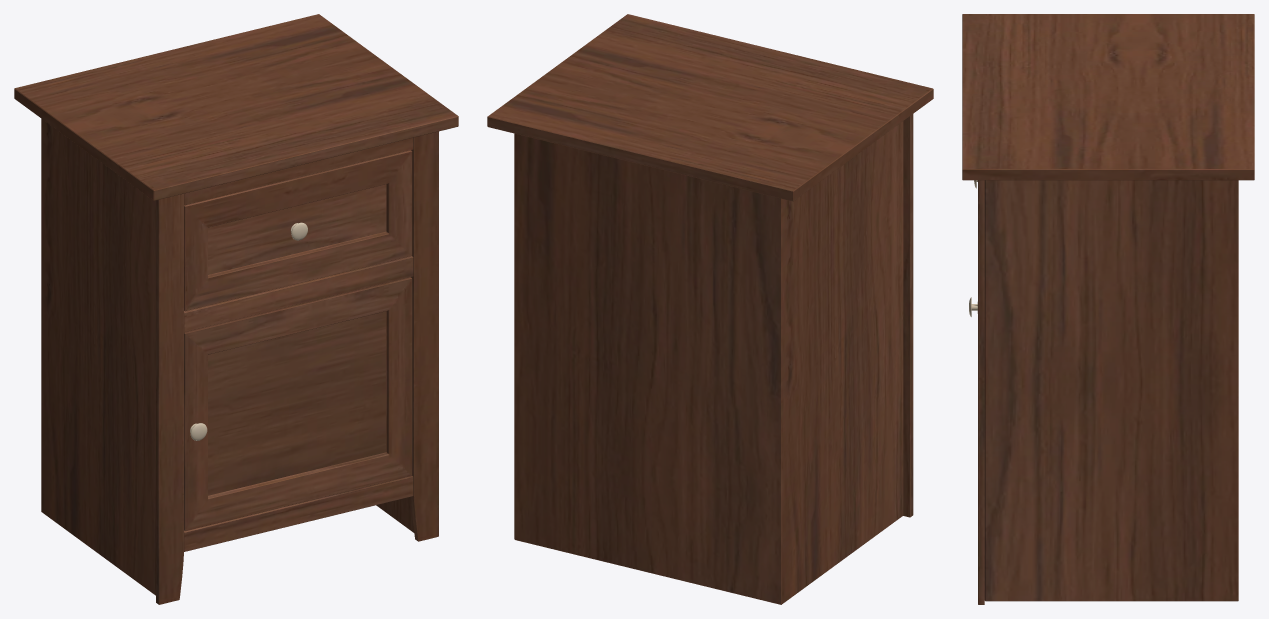
File: B07Q2MHJCG.glb
3 views of the same model, side by side, from view 1: azimuth 30°, elevation 25°; view 2: azimuth 150°, elevation 25°; view 3: azimuth 270°, elevation 25° (orthographic). The views are drawn at different scales.
Visible parts, largest first — view 1: RootNode; view 2: RootNode; view 3: RootNode.
Boxes of the visible parts, bbox=[...] form: RootNode: bbox=[14, 14, 458, 604]; RootNode: bbox=[487, 14, 933, 604]; RootNode: bbox=[962, 14, 1254, 604].
Bounding box in the file's own units: 0.4799 × 0.6357 × 0.3809.
Materials: 1 (1 with a texture image).
